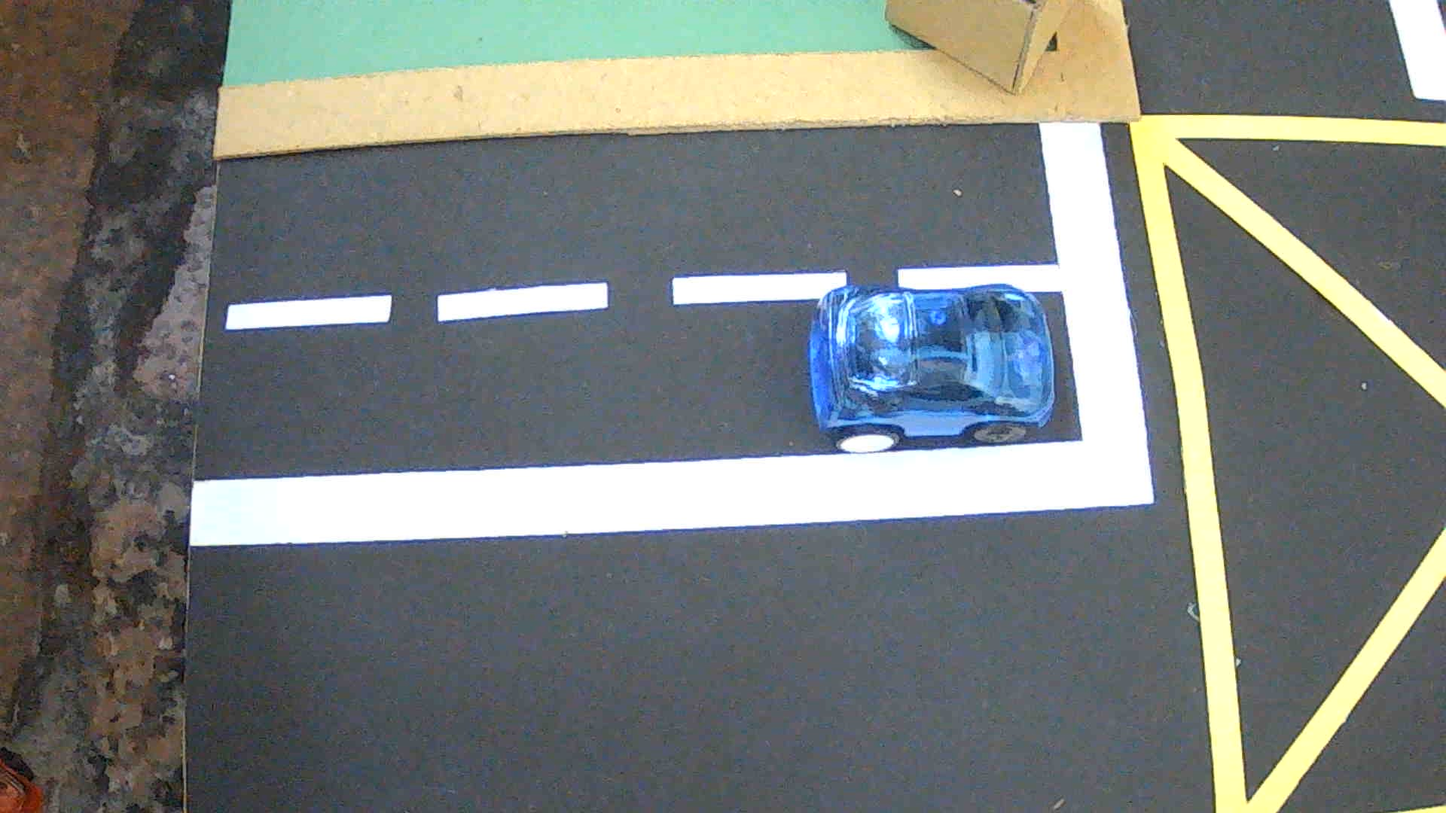Mobil biru: (808, 285, 1054, 451)
